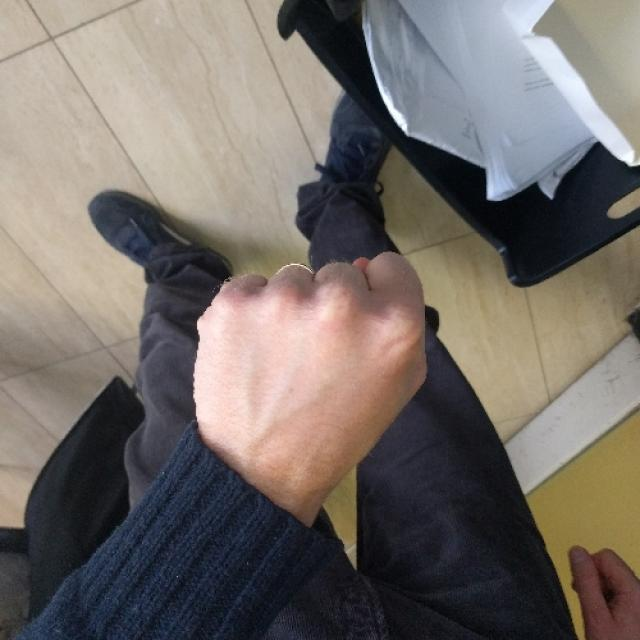rock: (195, 250, 428, 456)
